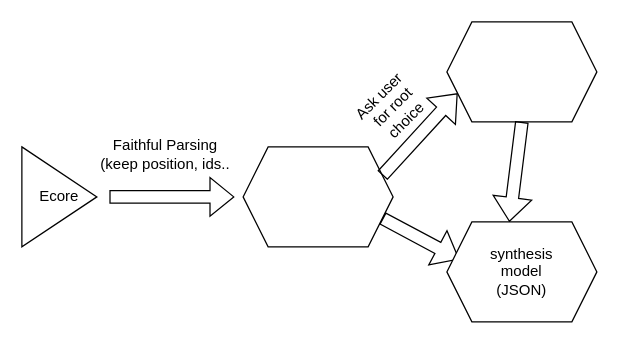
The diagram is 619 pixels wide and 344 high, and some of its shapes have lost their labels. Each missing label, with the centre of its shape:
ecore-model (JSON): point 317,196
root class: point 521,71
